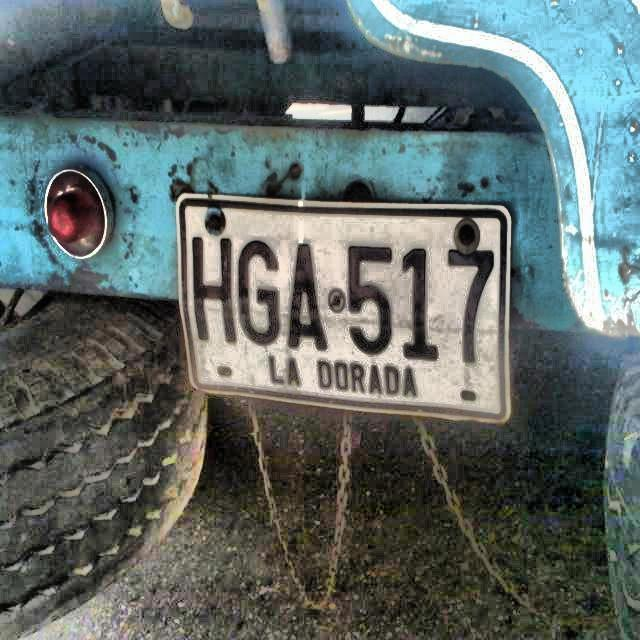plate: (184, 202, 504, 416)
